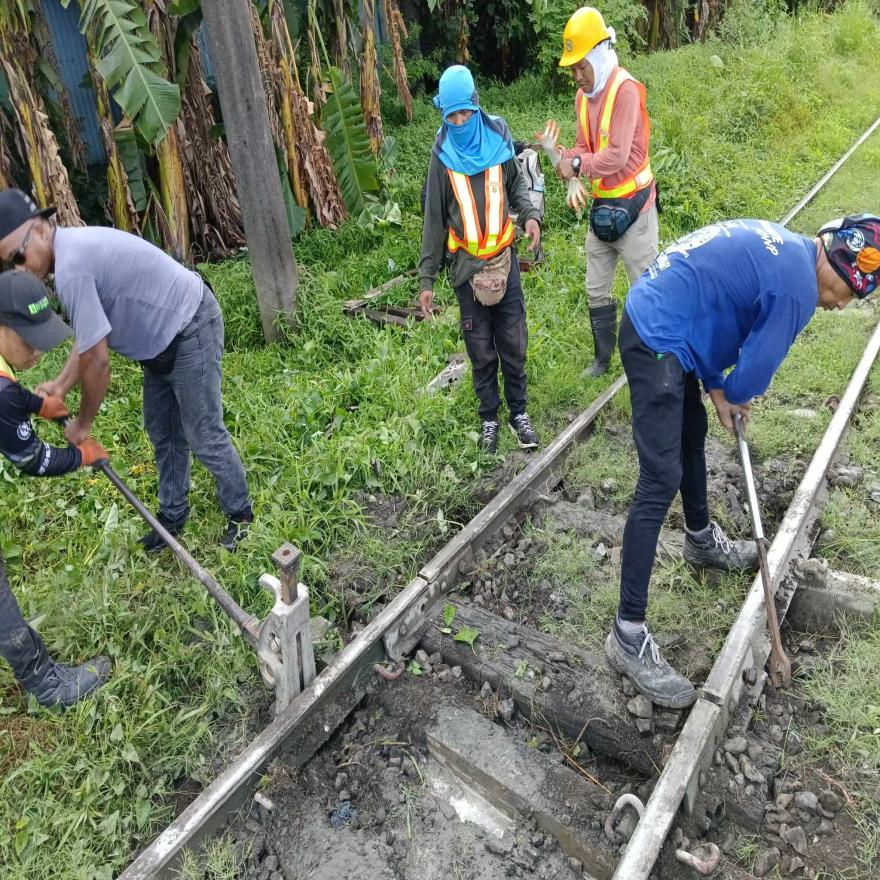railway-gap: (684, 667, 735, 731), (398, 554, 442, 602)
